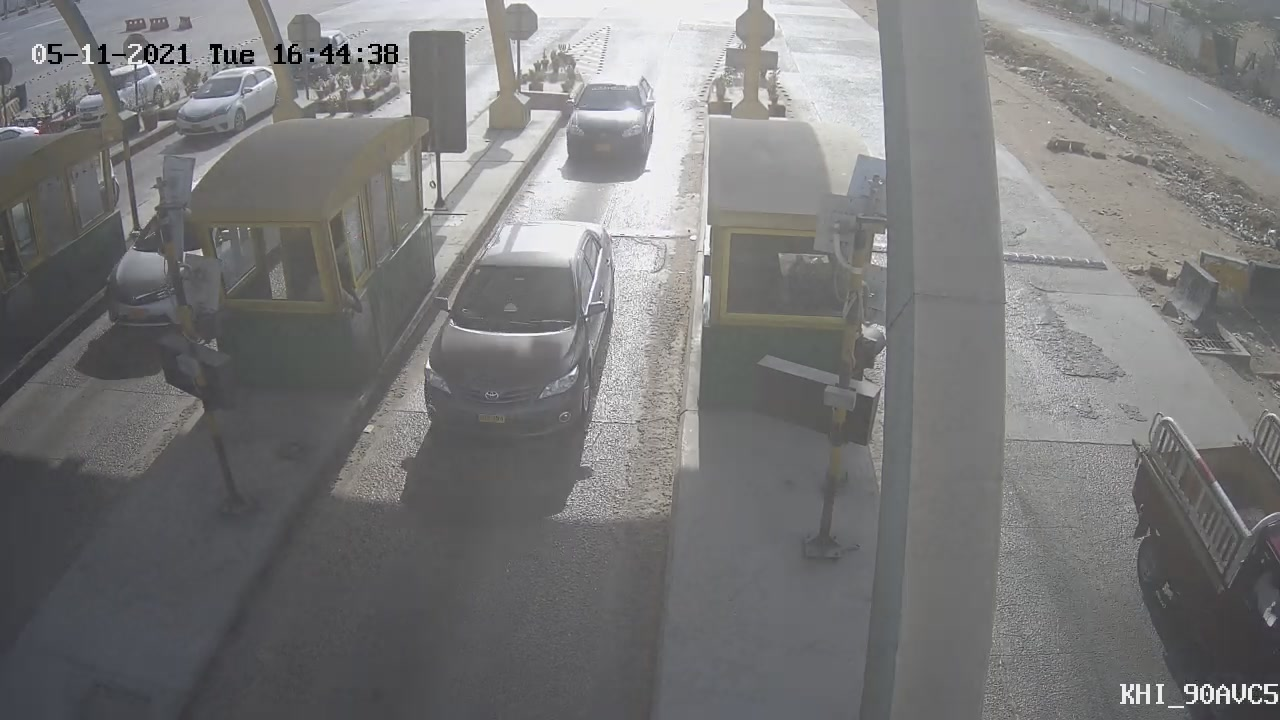F1: (399, 200, 637, 473), (546, 62, 669, 188)
